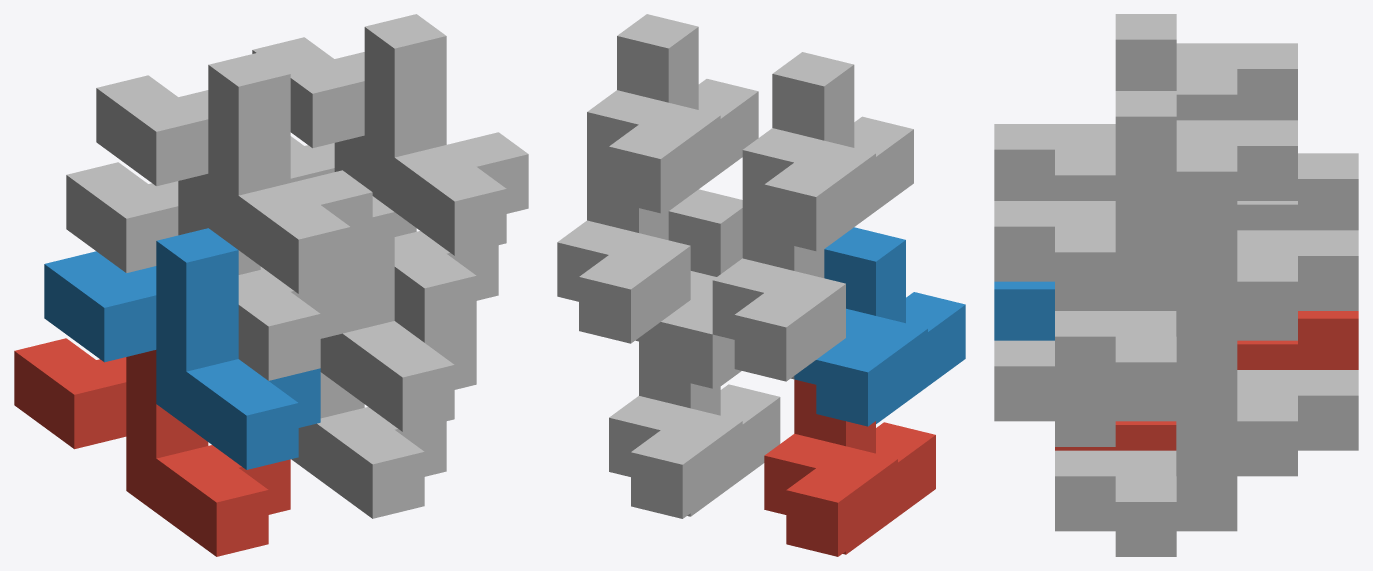
The model's file is tiling.obj.
3 renders of one model, left to right at view 1: azimuth 30°, elevation 25°; view 2: azimuth 150°, elevation 25°; view 3: azimuth 270°, elevation 25°, orthographic.
Parts seen in each view (by area): view 1: copy_1_domain_4, copy_1_domain_2, copy_1_domain_8, copy_1_domain_1, copy_1_domain_3, copy_1_domain_6, copy_1_domain_5, copy_1_domain_7; view 2: copy_1_domain_4, copy_1_domain_8, copy_1_domain_2, copy_1_domain_1, copy_1_domain_5, copy_1_domain_3, copy_1_domain_7, copy_1_domain_6; view 3: copy_1_domain_8, copy_1_domain_7, copy_1_domain_5, copy_1_domain_4, copy_1_domain_6, copy_1_domain_1, copy_1_domain_3, copy_1_domain_2.
Part boxes in pixels (x1,y1,x2,y2): copy_1_domain_4: (96, 52, 372, 293); copy_1_domain_2: (44, 228, 320, 469); copy_1_domain_8: (252, 14, 528, 255); copy_1_domain_1: (14, 338, 290, 556); copy_1_domain_3: (66, 162, 342, 380); copy_1_domain_6: (260, 196, 476, 431); copy_1_domain_5: (291, 372, 446, 518); copy_1_domain_7: (290, 135, 498, 342); copy_1_domain_4: (742, 52, 913, 250); copy_1_domain_8: (587, 14, 758, 213); copy_1_domain_2: (794, 227, 965, 426); copy_1_domain_1: (764, 379, 935, 556); copy_1_domain_5: (609, 341, 780, 518); copy_1_domain_3: (712, 204, 845, 381); copy_1_domain_7: (557, 166, 690, 343); copy_1_domain_6: (639, 189, 742, 388); copy_1_domain_8: (994, 91, 1297, 307); copy_1_domain_7: (1055, 226, 1358, 417); copy_1_domain_5: (1055, 370, 1358, 556); copy_1_domain_4: (994, 14, 1297, 200); copy_1_domain_6: (994, 281, 1297, 446); copy_1_domain_1: (1055, 311, 1358, 450); copy_1_domain_3: (1055, 153, 1358, 310); copy_1_domain_2: (994, 281, 1054, 340).
Size of the model in its own units: 7 by 8 by 6.
